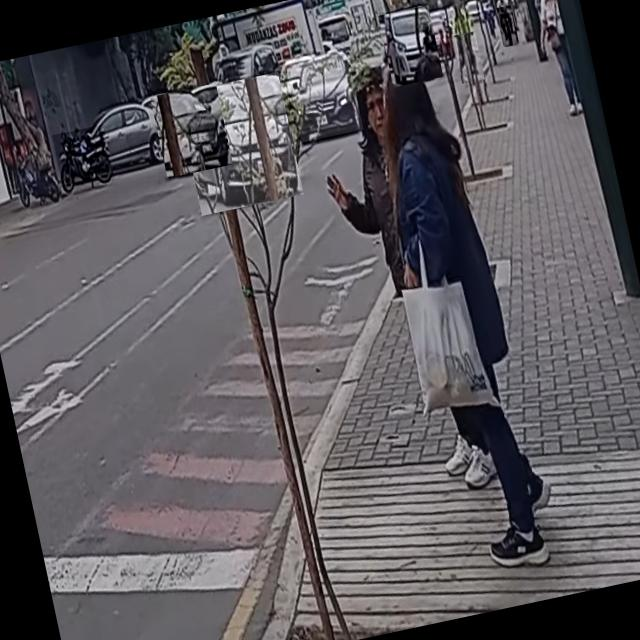bicycle: (452, 31, 485, 85), (496, 4, 519, 46)
bus: (150, 82, 232, 178)
car: (176, 72, 304, 216), (284, 47, 363, 142), (378, 5, 443, 86)
motorcycle: (52, 124, 115, 190), (10, 148, 64, 212)
